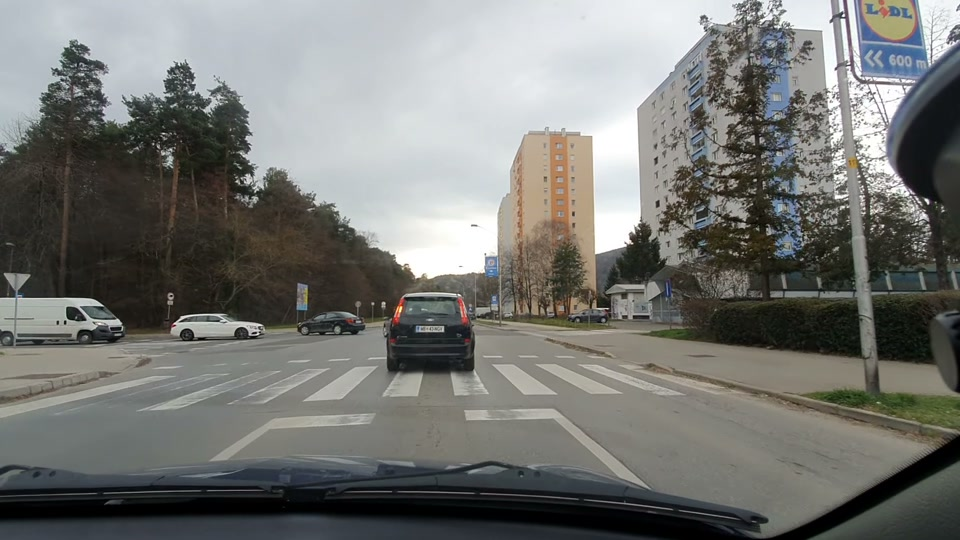vehicle_ign: (378, 290, 477, 375), (297, 307, 368, 339)
vehicle_l: (3, 287, 136, 346), (166, 306, 267, 343)
